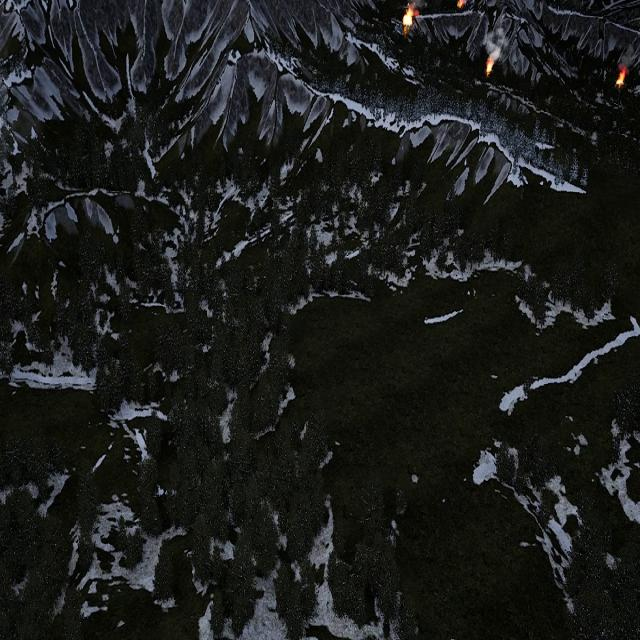fire: (403, 7, 419, 28), (616, 70, 626, 87), (486, 59, 494, 76), (457, 0, 465, 8)
smoke: (483, 21, 508, 61), (620, 43, 640, 71), (407, 0, 427, 10)
